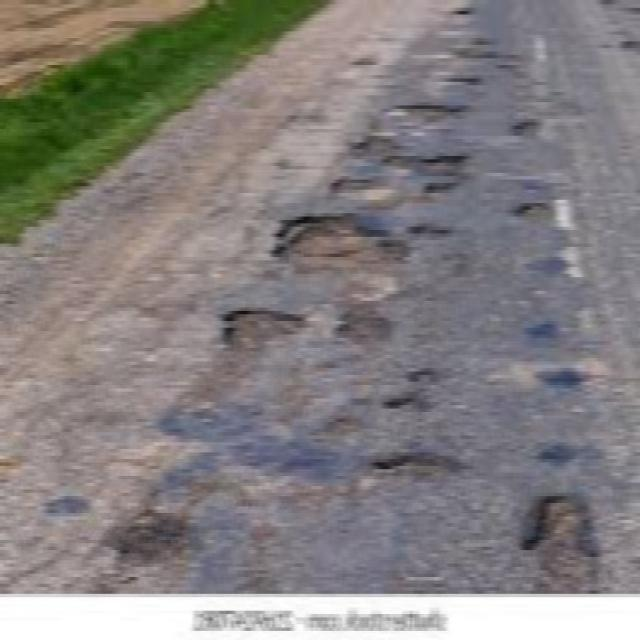Pothole: (272, 207, 435, 291), (512, 479, 608, 597), (210, 300, 320, 367), (354, 442, 481, 497), (379, 142, 473, 206), (376, 92, 478, 134), (368, 364, 441, 414), (329, 314, 402, 354), (322, 162, 387, 202), (458, 34, 521, 65), (504, 191, 552, 228), (418, 67, 483, 91), (514, 111, 556, 147), (346, 52, 382, 70), (449, 6, 480, 20)
